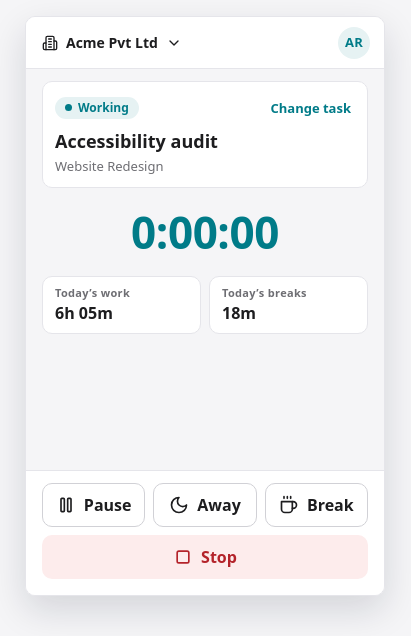
Test: timer view per state › Change task opens the picker; Back to timer returns
Later steps or results of the test are not shown.
Expected: the heading "Accessibility audit" is shown, [55,129,218,153]
Click the button "Change task" at (311, 108), box [266,94,355,122]
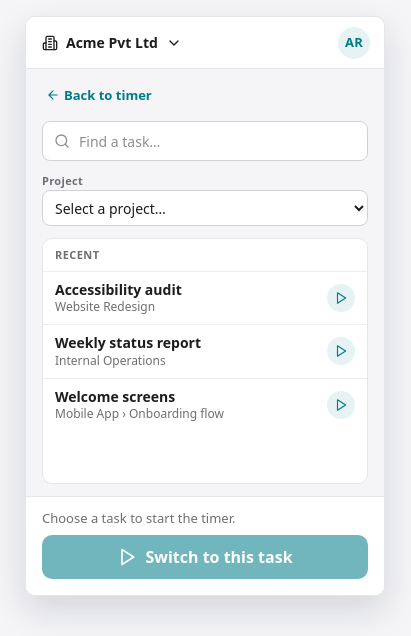
Expected: the button "Switch to this task" is disabled, [42,535,368,579]
Click the button "Back to timer" at (99, 95), box [42,81,156,109]
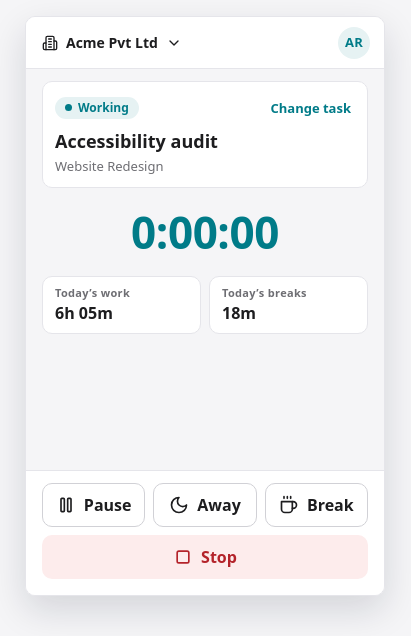
Expected: the text "0:00:00" is shown, [131,202,279,262]
